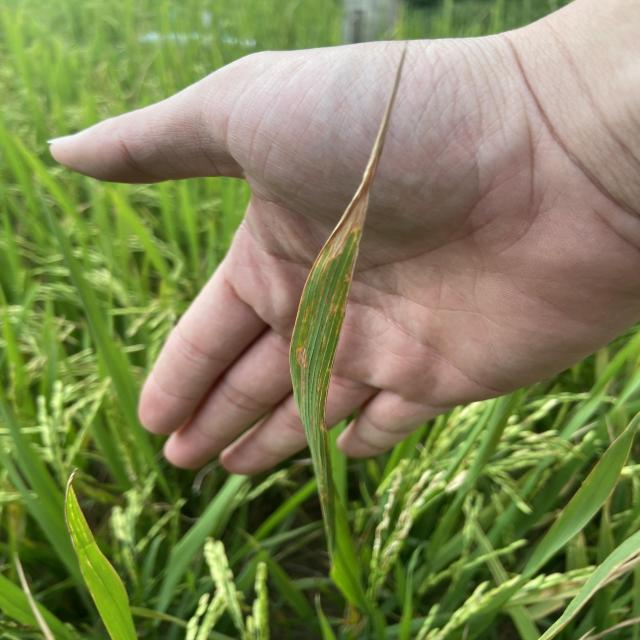Dom soc vi khuan: (296, 340, 309, 414), (328, 284, 345, 316), (320, 386, 329, 432), (318, 276, 328, 305), (315, 378, 322, 406), (318, 335, 326, 356), (302, 306, 309, 323), (310, 418, 314, 438), (313, 309, 319, 320)
